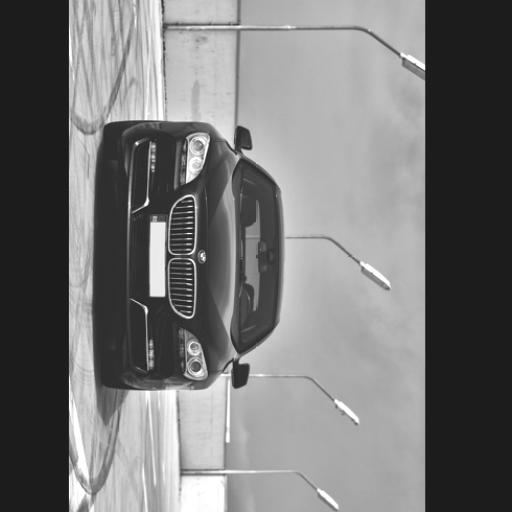sedan: (102, 120, 284, 390)
